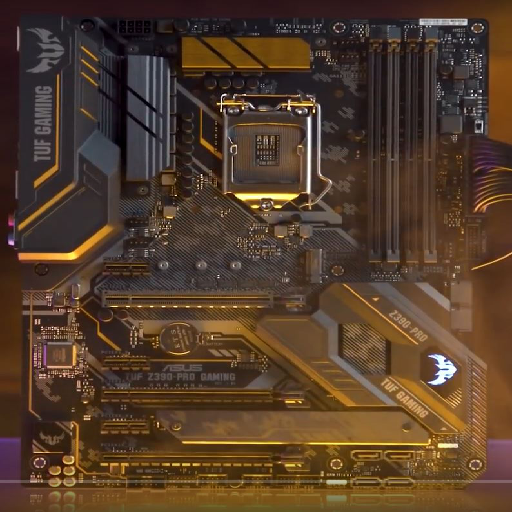CPU: (220, 92, 311, 212)
GPU: (99, 384, 310, 406), (100, 290, 311, 308)
MOTHERBOARD: (18, 18, 489, 512)
RAM: (364, 25, 440, 275)
SSD: (300, 247, 323, 285)
